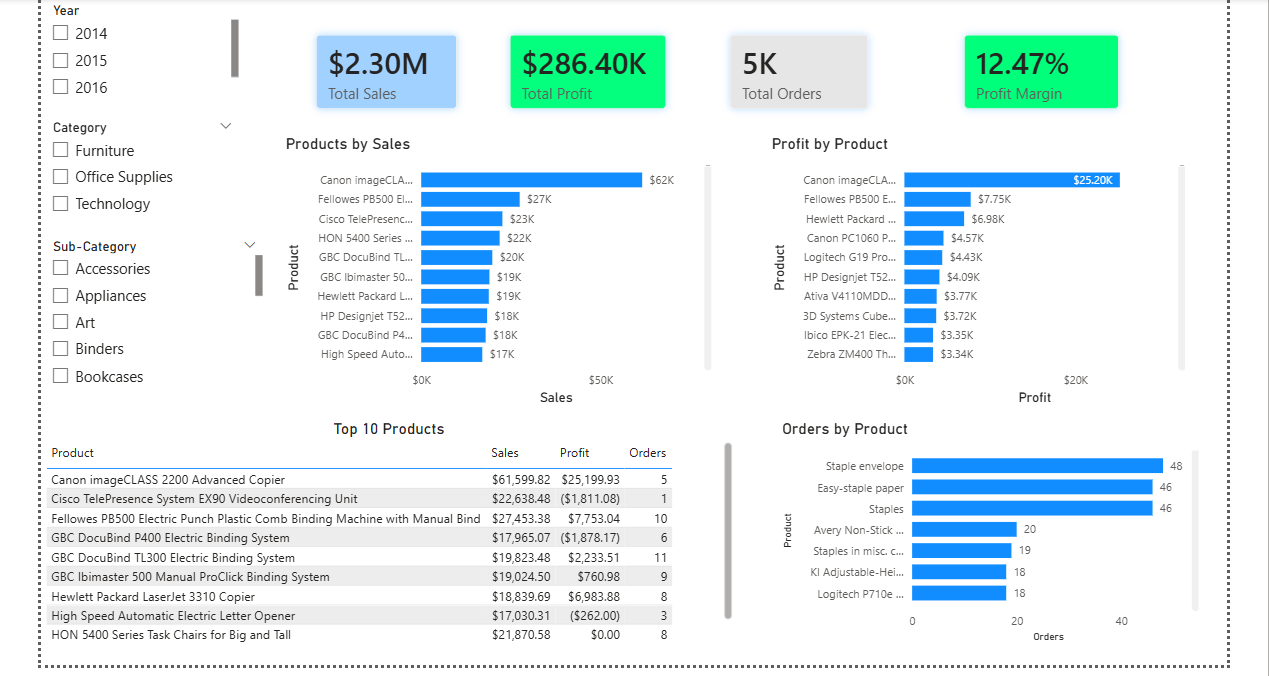

The page's visual inventory and layout, read from the dashboard file:
{"tool":"powerbi","page":{"name":"Product Analysis ","canvas":[1280,720],"ordinal":3},"visuals":[{"type":"slicer","fields":{"Values":["Dim_Product.Category"]},"box":[0,126.3,218.6,127.9],"z":0},{"type":"slicer","fields":{"Values":["Dim_Product.Sub-Category"]},"box":[0,254.2,244.5,176.5],"z":1000},{"type":"cardVisual","fields":{"Data":["Fact_Sales.Total Sales"]},"box":[268.8,11.3,208.9,136],"z":2000},{"type":"cardVisual","fields":{"Data":["Fact_Sales.Total Profit"]},"box":[477.7,11.3,225.1,136],"z":3000},{"type":"cardVisual","fields":{"Data":["Fact_Sales.Total Orders"]},"box":[715.7,11.3,205.6,136],"z":4000},{"type":"cardVisual","fields":{"Data":["Fact_Sales.Profit Margin"]},"box":[968.3,11.3,223.5,136],"z":5000},{"type":"clusteredBarChart","title":"Products by Sales","fields":{"Category":["Dim_Product.Product Name"],"Y":["Fact_Sales.Total Sales"]},"box":[259.1,147.3,469.6,296.3],"z":6000},{"type":"tableEx","title":"Top 10 Products","fields":{"Values":["Dim_Product.Product Name","Fact_Sales.Total Sales","Fact_Sales.Total Profit","Fact_Sales.Total Orders"]},"box":[0,455,751.3,244.5],"z":7000},{"type":"clusteredBarChart","title":"Profit by Product ","fields":{"Category":["Dim_Product.Product Name"],"Y":["Fact_Sales.Total Profit"]},"box":[783.7,147.3,456.6,296.3],"z":8000},{"type":"slicer","fields":{"Values":["Dim_Date.Year"]},"box":[0,0,218.6,113.3],"z":9000},{"type":"clusteredBarChart","title":"Orders by Product","fields":{"Y":["Fact_Sales.Total Orders"],"Category":["Dim_Product.Product Name"]},"box":[795,455,459.9,244.5],"z":10000}]}

Visuals, with their boxes on the page's 1280x720 design canvas (x1, y1, x2, y2). These are canvas units, not pixel positions in the 1269x676 screenshot, which may show the page scaled, cropped or inside an application window:
slicer - Dim_Product.Category: locate(0, 126, 219, 254)
slicer - Dim_Product.Sub-Category: locate(0, 254, 244, 431)
cardVisual - Fact_Sales.Total Sales: locate(269, 11, 478, 147)
cardVisual - Fact_Sales.Total Profit: locate(478, 11, 703, 147)
cardVisual - Fact_Sales.Total Orders: locate(716, 11, 921, 147)
cardVisual - Fact_Sales.Profit Margin: locate(968, 11, 1192, 147)
"Products by Sales" clusteredBarChart: locate(259, 147, 729, 444)
"Top 10 Products" tableEx: locate(0, 455, 751, 700)
"Profit by Product " clusteredBarChart: locate(784, 147, 1240, 444)
slicer - Dim_Date.Year: locate(0, 0, 219, 113)
"Orders by Product" clusteredBarChart: locate(795, 455, 1255, 700)
